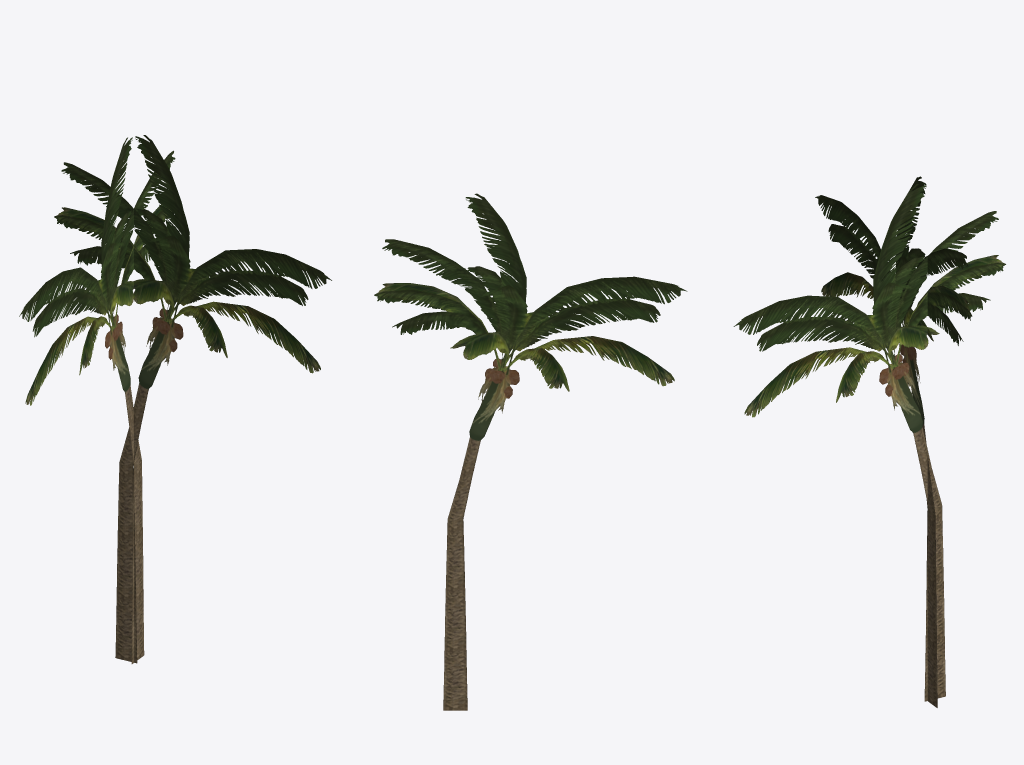
Rendered from kiV4_LOD2.fbx.
3 views of the same model, side by side, from view 1: azimuth 30°, elevation 25°; view 2: azimuth 150°, elevation 25°; view 3: azimuth 270°, elevation 25° (orthographic). The views are drawn at different scales.
Parts seen in each view (by area): view 1: Mesh Object; view 2: Mesh Object; view 3: Mesh Object.
Part boxes in pixels (x1,y1,x2,y2): Mesh Object: (19, 135, 331, 663); Mesh Object: (374, 193, 687, 710); Mesh Object: (733, 176, 1005, 707).
Bounding box in the file's own units: 25.33 × 52.48 × 22.51.
